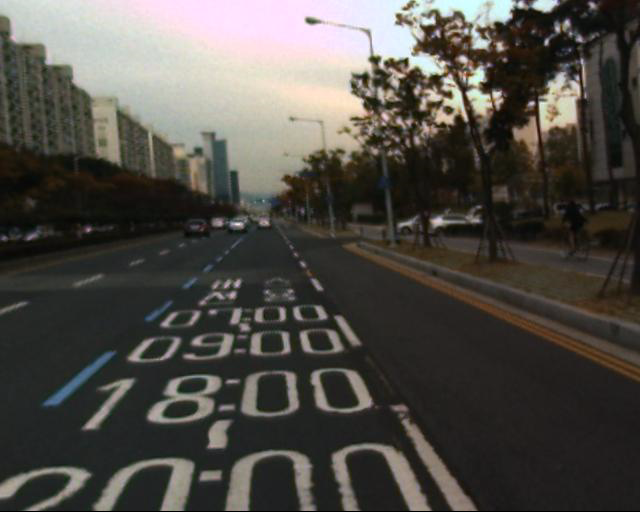person: (555, 195, 595, 237)
